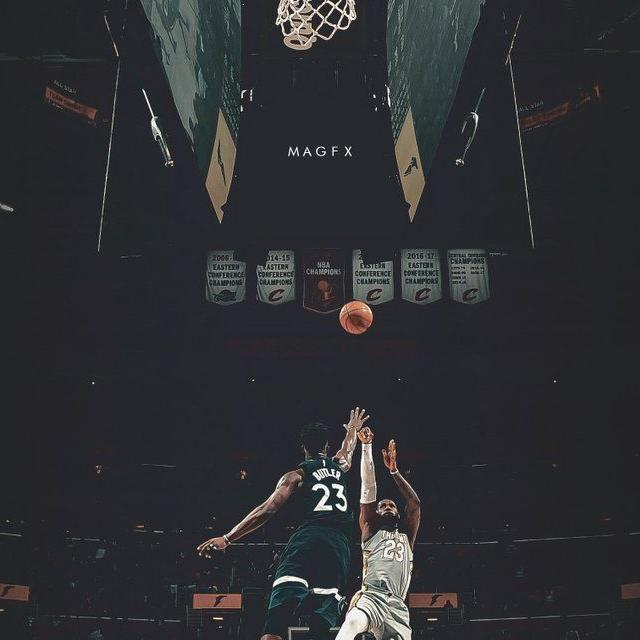basketball: (340, 295, 370, 346)
hoop: (242, 0, 386, 35)
